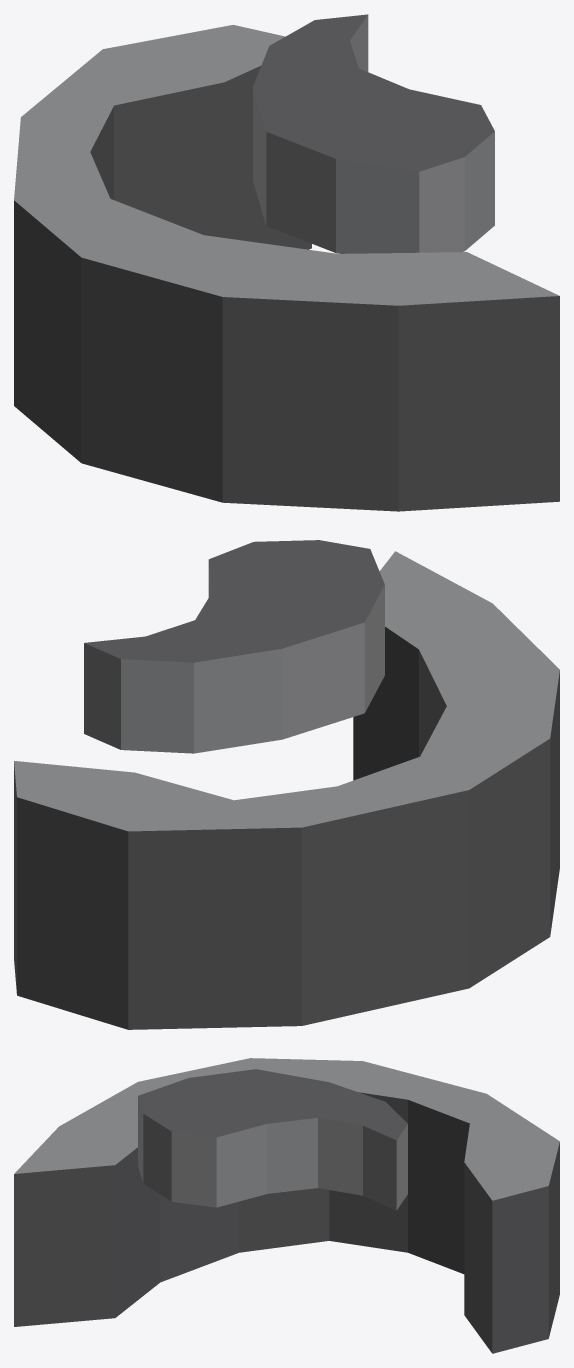
The picture shows the model from 3 angles, top to bottom: view 1: azimuth 30°, elevation 25°; view 2: azimuth 150°, elevation 25°; view 3: azimuth 270°, elevation 25°; orthographic projection. The views are drawn at different scales.
Bounding box in the file's own units: 0.2592 × 0.1782 × 0.419.
